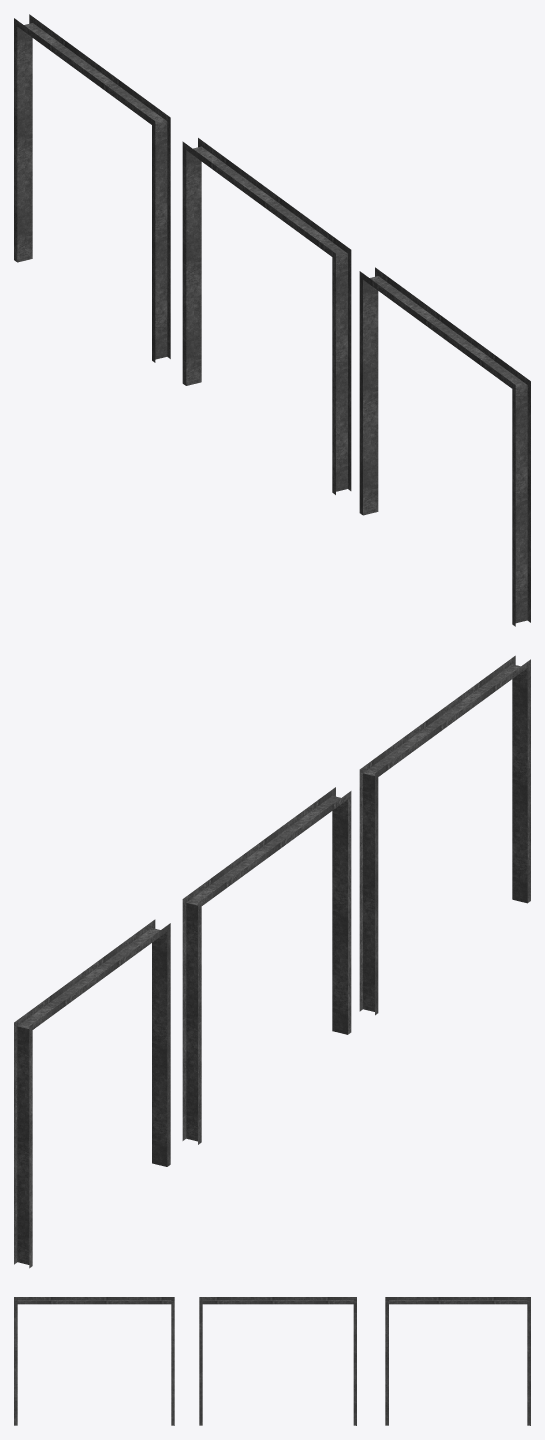
File: door_frame_front.FBX
3 views of the same model, one above another, from view 1: azimuth 30°, elevation 25°; view 2: azimuth 150°, elevation 25°; view 3: azimuth 270°, elevation 25° (orthographic). The views are drawn at different scales.
Parts seen in each view (by area): view 1: door_front; view 2: door_front; view 3: door_front.
Part boxes in pixels (left/top/right/bottom): door_front: left=14, top=14, right=530, bottom=626; door_front: left=14, top=655, right=530, bottom=1268; door_front: left=14, top=1297, right=530, bottom=1425.
Bounding box in the file's own units: 0.4035 × 6.07 × 22.8.
Materials: 1 (1 with a texture image).
